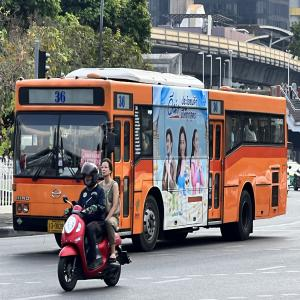BMTA-bus: (12, 68, 288, 278)
Bus Line Number: (50, 87, 71, 106)
Destination Sign: (82, 148, 100, 168)
